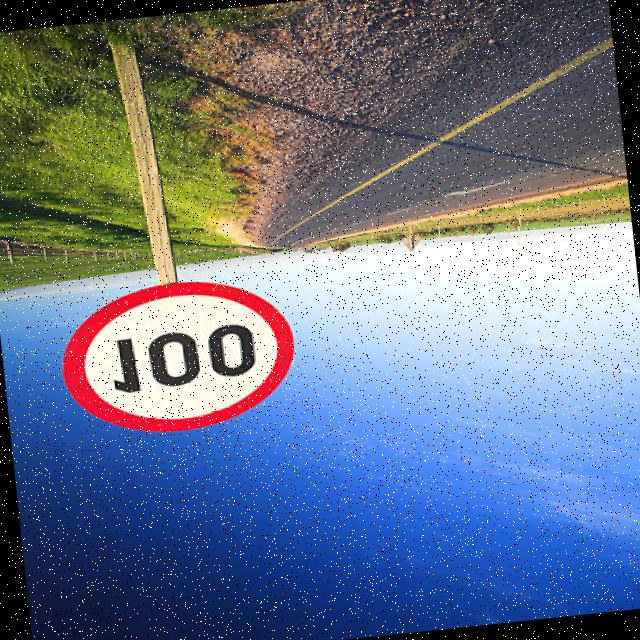speed_limit_100: (47, 268, 306, 453)
